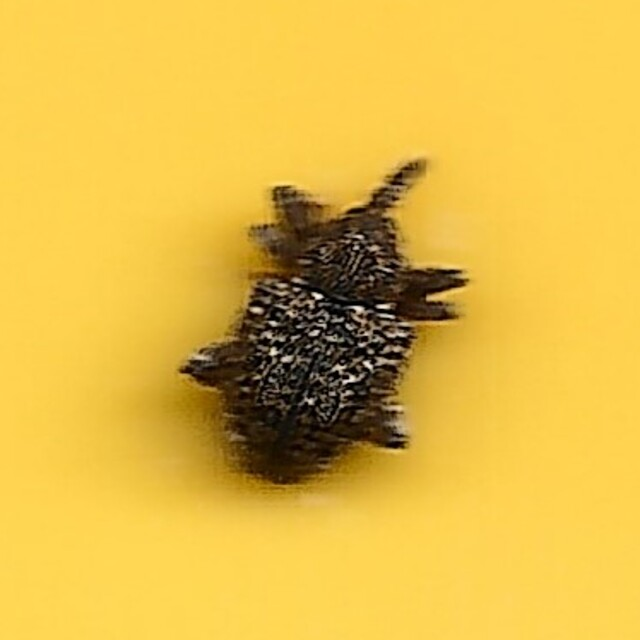Coleoptera: (171, 151, 469, 489)
